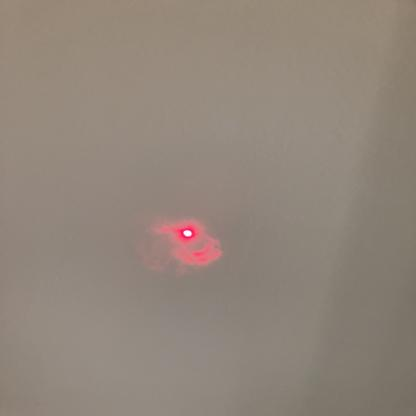target: (172, 223, 202, 244)
